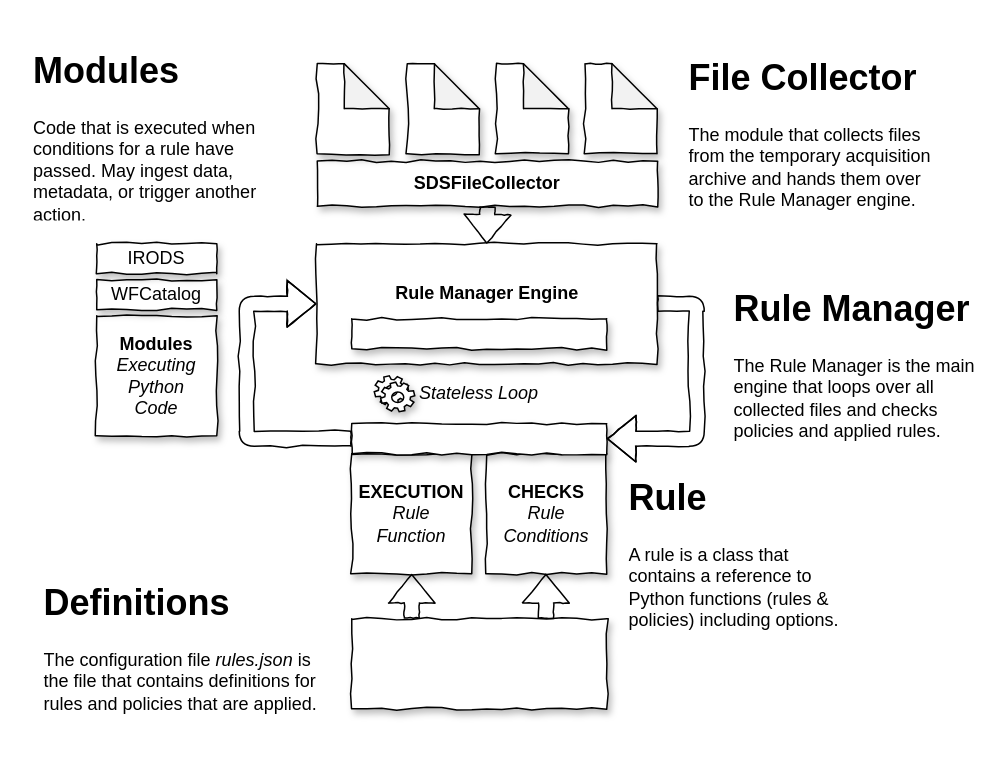
The diagram is 1007 pixels wide and 779 high, and some of its shapes have lost their labels. The centre of each missing label's shape, as x and y in pixels:
Rule: the point at 480,440
rules.json { name , options , checks }: the point at 480,665
SDSManager: the point at 480,335
